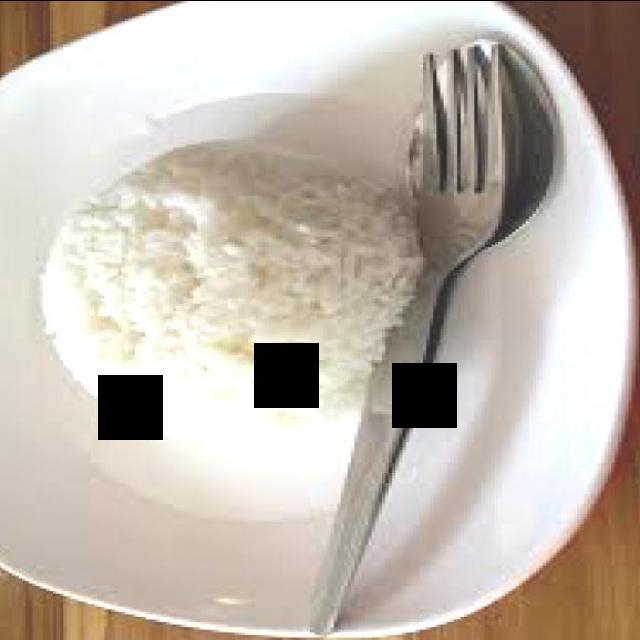rice: (40, 141, 428, 443)
